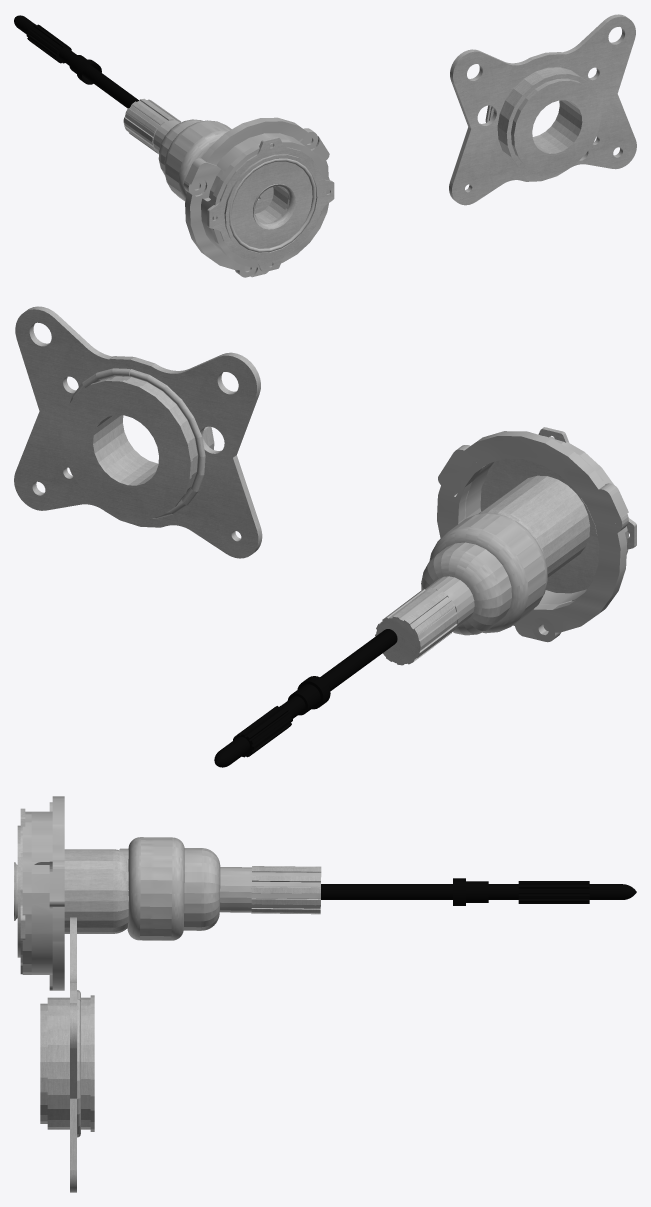
3 renders of one model, top to bottom at view 1: azimuth 30°, elevation 25°; view 2: azimuth 150°, elevation 25°; view 3: azimuth 270°, elevation 25°, orthographic. The views are drawn at different scales.
Parts seen in each view (by area): view 1: 1.008, slongsong, 1.001, 1.003; view 2: 1.008, 1.003, slongsong, 1.001; view 3: 1.003, slongsong, 1.008, 1.001.
Boxes of the visible parts, <box> form: 1.008: <box>449,14,636,205</box>; slongsong: <box>14,15,334,272</box>; 1.001: <box>183,117,330,277</box>; 1.003: <box>123,98,231,201</box>; 1.008: <box>14,306,262,558</box>; 1.003: <box>375,513,547,665</box>; slongsong: <box>214,427,636,767</box>; 1.001: <box>437,431,628,642</box>; 1.003: <box>119,837,321,940</box>; slongsong: <box>14,808,636,974</box>; 1.008: <box>40,917,94,1192</box>; 1.001: <box>22,796,64,990</box>.
Bounding box in the file's own units: 936 × 321 × 921.
Materials: 13 (8 with a texture image).
